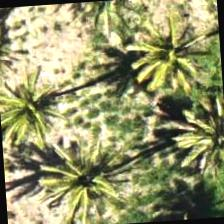Kelapa_Sawit: (108, 4, 204, 100), (25, 127, 120, 223), (0, 54, 84, 150), (158, 84, 223, 180)
